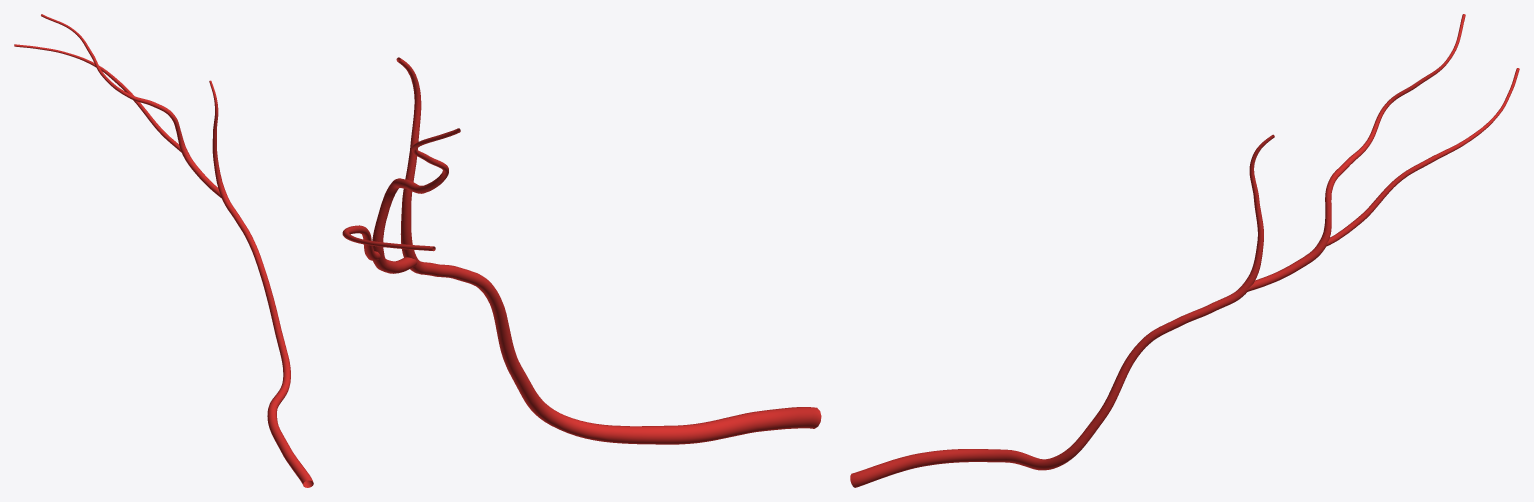
Rendered from circulatorio-parieto-occipital-artery-r.glb.
The picture shows the model from 3 angles, left to right: view 1: azimuth 30°, elevation 25°; view 2: azimuth 150°, elevation 25°; view 3: azimuth 270°, elevation 25°; orthographic projection. The views are drawn at different scales.
Parts seen in each view (by area): view 1: Parieto-occipital artery.r; view 2: Parieto-occipital artery.r; view 3: Parieto-occipital artery.r.
Part boxes in pixels (x1,y1,x2,y2): Parieto-occipital artery.r: [14, 14, 313, 487]; Parieto-occipital artery.r: [342, 57, 821, 444]; Parieto-occipital artery.r: [850, 14, 1519, 487].
Bounding box in the file's own units: 0.0168 × 0.0451 × 0.0618.
